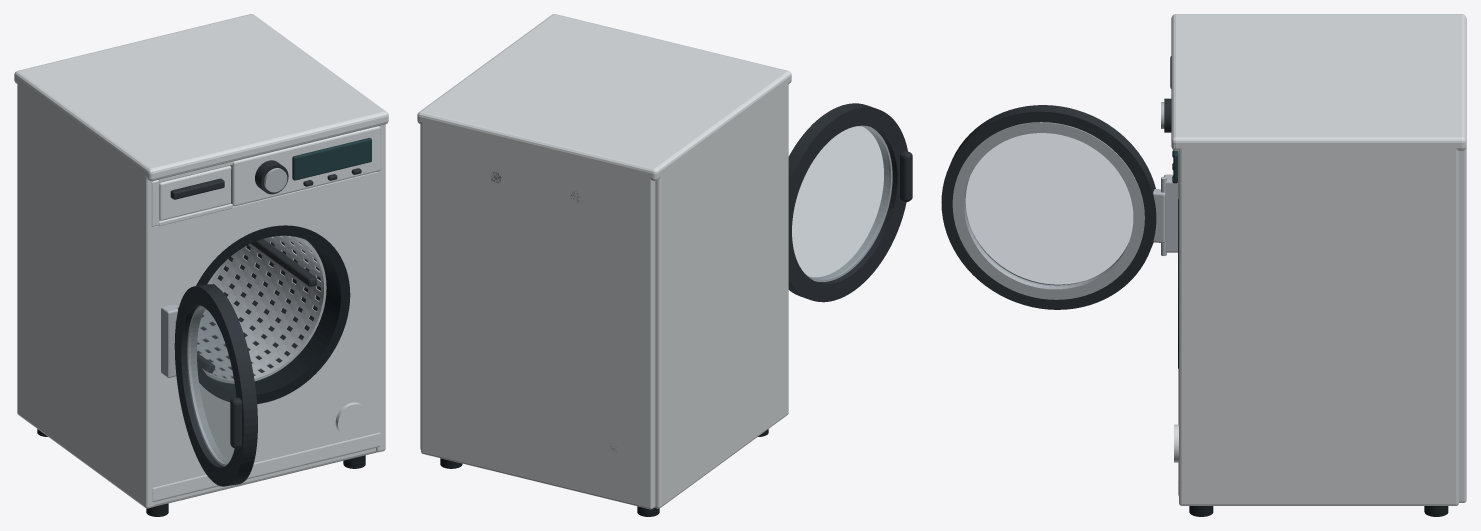
The picture shows the model from 3 angles, left to right: view 1: azimuth 30°, elevation 25°; view 2: azimuth 150°, elevation 25°; view 3: azimuth 270°, elevation 25°; orthographic projection. The views are drawn at different scales.
Visible parts, largest first — view 1: Cabinet side -0.287, Cabinet top cap, Front porthole fascia, Rotating perforated drum sleeve, Door moving outer trim, Flexible front door gasket, Door moving glazed disk, Control panel right, Lower kick panel, Drawer moving front, Dark display screen, Cabinet side 0.287 (+11 smaller); view 2: Cabinet rear panel, Cabinet side -0.287, Cabinet top cap, Door moving glazed disk, Door moving outer trim, Door moving inner ring, Door moving handle; view 3: Cabinet side 0.287, Cabinet top cap, Door moving glazed disk, Door moving outer trim, Door moving inner ring, Cabinet rear panel, Fixed door hinge leaf.
Boxes of the visible parts, <box> form: Cabinet side -0.287: <box>17,82,154,508</box>; Cabinet top cap: <box>14,14,388,181</box>; Front porthole fascia: <box>152,171,380,488</box>; Rotating perforated drum sleeve: <box>197,235,321,378</box>; Door moving outer trim: <box>174,284,257,486</box>; Flexible front door gasket: <box>196,225,350,403</box>; Door moving glazed disk: <box>187,306,235,465</box>; Control panel right: <box>230,126,380,206</box>; Lower kick panel: <box>152,432,380,501</box>; Drawer moving front: <box>159,165,231,220</box>; Dark display screen: <box>292,138,371,180</box>; Cabinet side 0.287: <box>376,124,385,452</box>; Cabinet rear panel: <box>421,121,655,509</box>; Cabinet side -0.287: <box>654,83,788,508</box>; Cabinet top cap: <box>417,14,791,181</box>; Door moving glazed disk: <box>792,126,892,280</box>; Door moving outer trim: <box>788,103,907,302</box>; Door moving inner ring: <box>805,125,892,281</box>; Door moving handle: <box>900,151,912,201</box>; Cabinet side 0.287: <box>1179,147,1458,505</box>; Cabinet top cap: <box>1171,14,1466,150</box>; Door moving glazed disk: <box>965,133,1132,285</box>; Door moving outer trim: <box>941,105,1156,309</box>; Door moving inner ring: <box>952,122,1144,299</box>; Cabinet rear panel: <box>1459,147,1466,502</box>; Fixed door hinge leaf: <box>1164,174,1177,252</box>.
Size of the model in its own units: 0.6435 by 0.848 by 1.05.
